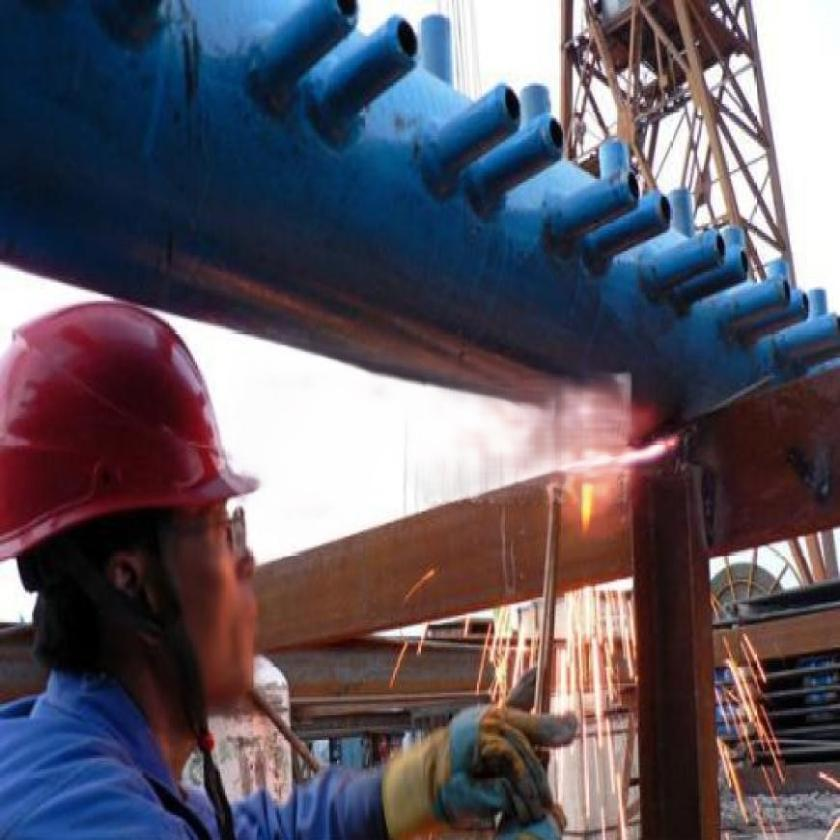Con_casco: (0, 292, 272, 711)
